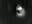person: (16, 4, 26, 19)
